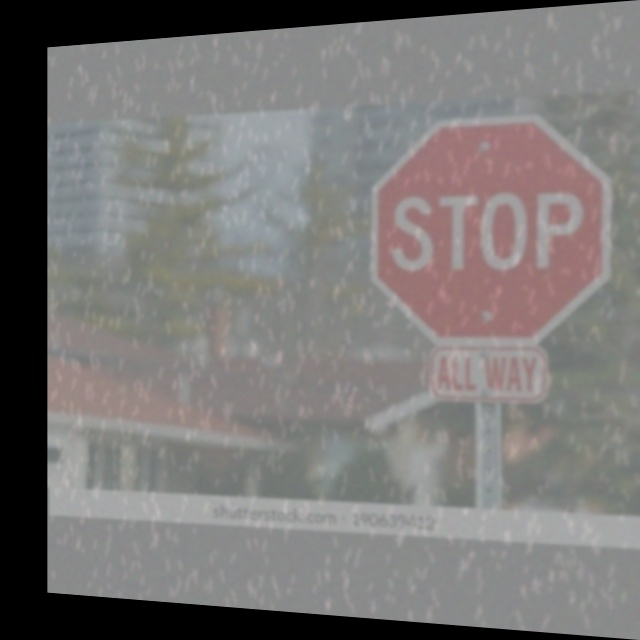Stop: (373, 110, 612, 345)
